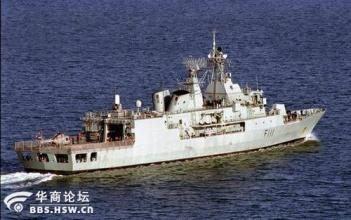warship: (16, 28, 327, 175)
